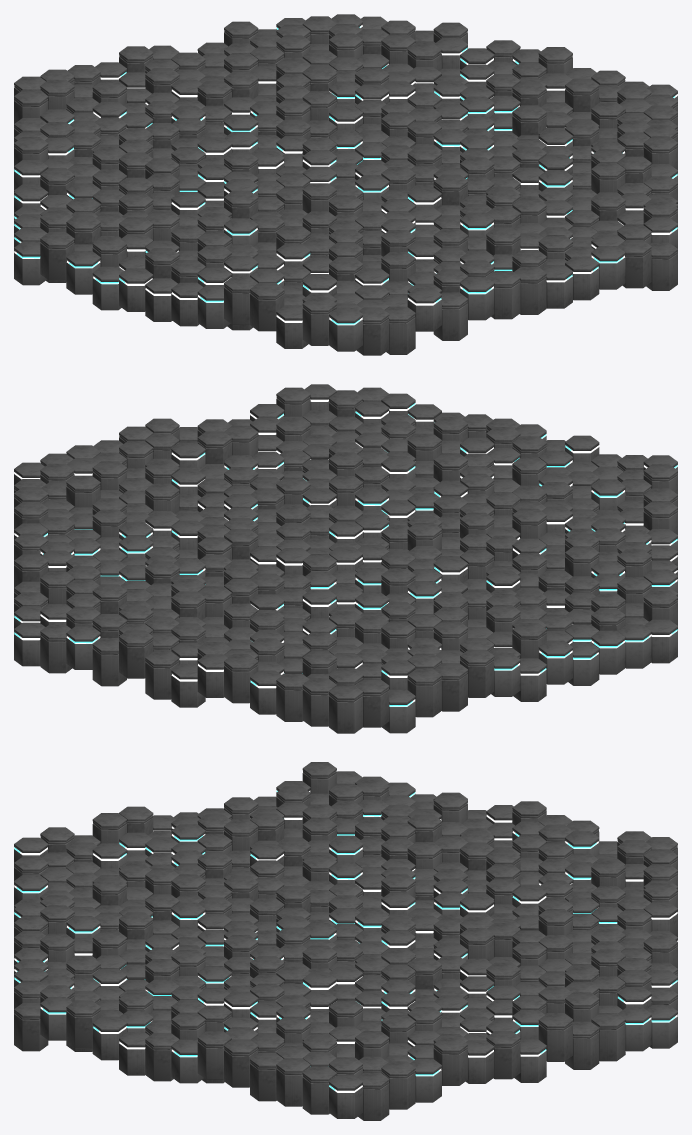
File: led_tiles.glb
3 renders of one model, top to bottom at view 1: azimuth 30°, elevation 25°; view 2: azimuth 150°, elevation 25°; view 3: azimuth 270°, elevation 25°, orthographic.
Visible parts, largest first — view 1: Geo1; view 2: Geo1; view 3: Geo1.
Boxes of the visible parts, left/top/right/bottom form: Geo1: left=14, top=14, right=677, bottom=355; Geo1: left=14, top=384, right=677, bottom=733; Geo1: left=14, top=762, right=677, bottom=1120.
Bounding box in the file's own units: 43.73 × 3.49 × 38.36.
2 materials, 1 textured.
